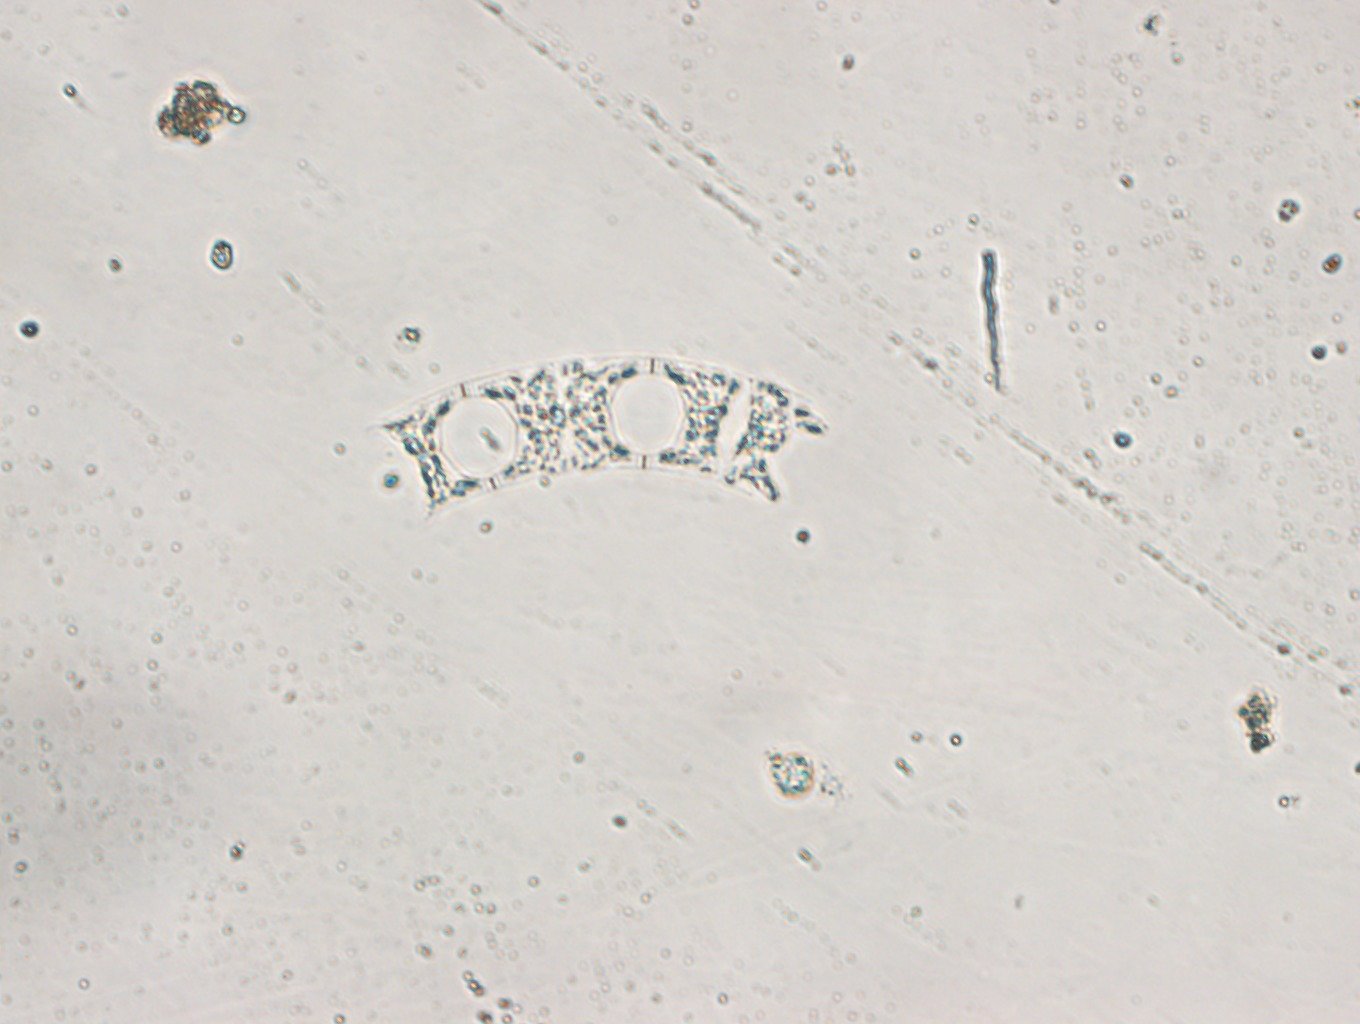eucampia: (375, 350, 831, 520)
